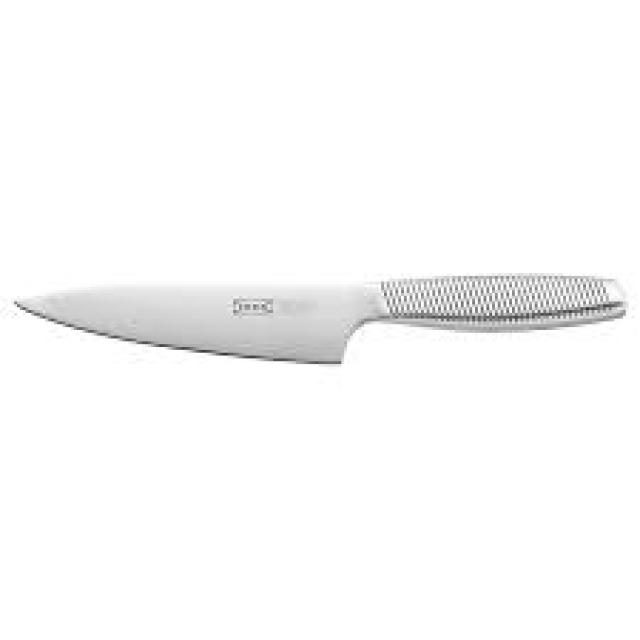knife: (8, 270, 632, 368)
